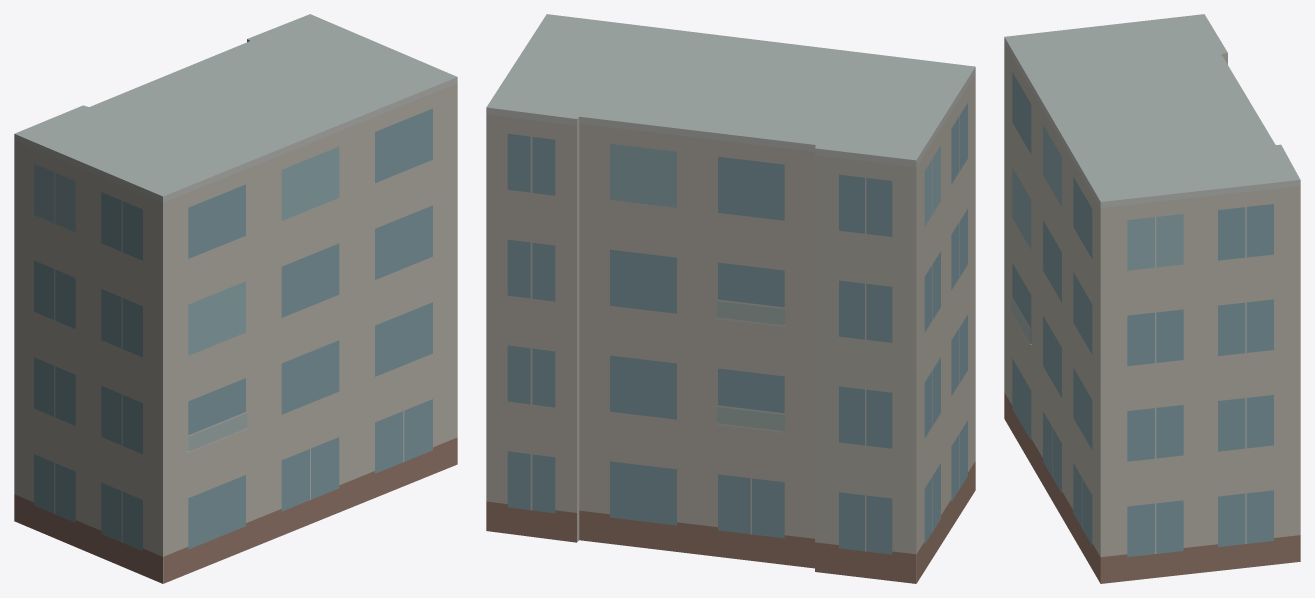
The model's file is survey-upis-32932499.glb.
The picture shows the model from 3 angles, left to right: view 1: azimuth 30°, elevation 25°; view 2: azimuth 150°, elevation 25°; view 3: azimuth 270°, elevation 25°; orthographic projection. The views are drawn at different scales.
Parts seen in each view (by area): view 1: survey-upis-32932499.tmp; view 2: survey-upis-32932499.tmp; view 3: survey-upis-32932499.tmp.
Boxes of the visible parts, x1,y1,x2,y2 form: survey-upis-32932499.tmp: (14,14,457,583); survey-upis-32932499.tmp: (486,14,975,583); survey-upis-32932499.tmp: (1004,14,1300,583).
Size of the model in its own units: 15.84 by 15 by 10.55.
